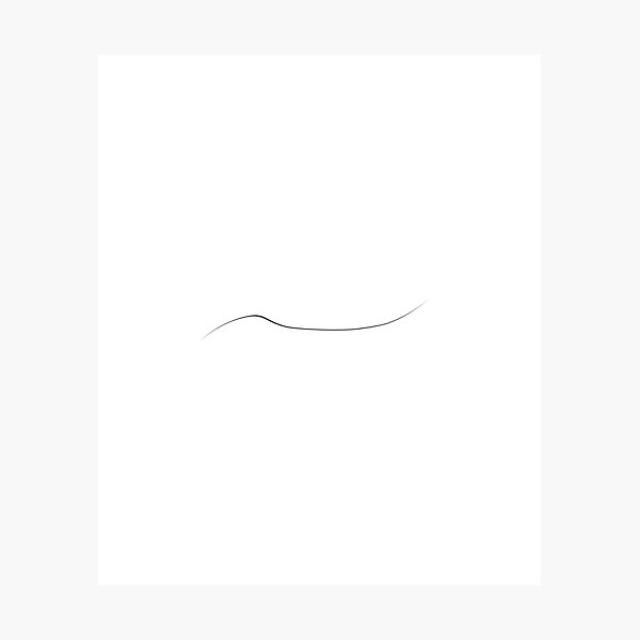hair: (203, 274, 434, 344)
